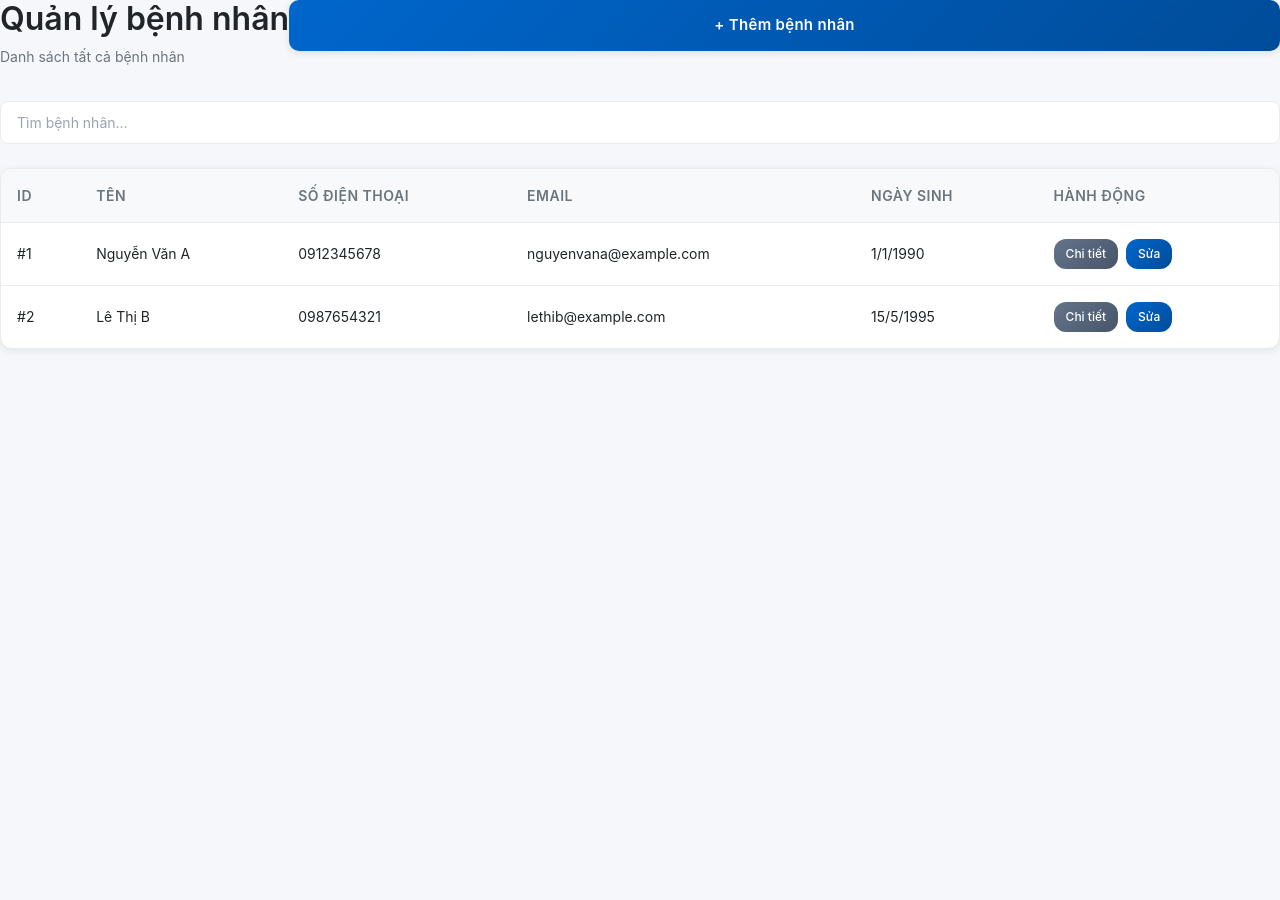
Test: PatientList › opens edit patient form
Click the button "Sửa" in the row of "Nguyễn Văn A" at (1149, 254), box 1126,239 -> 1172,269
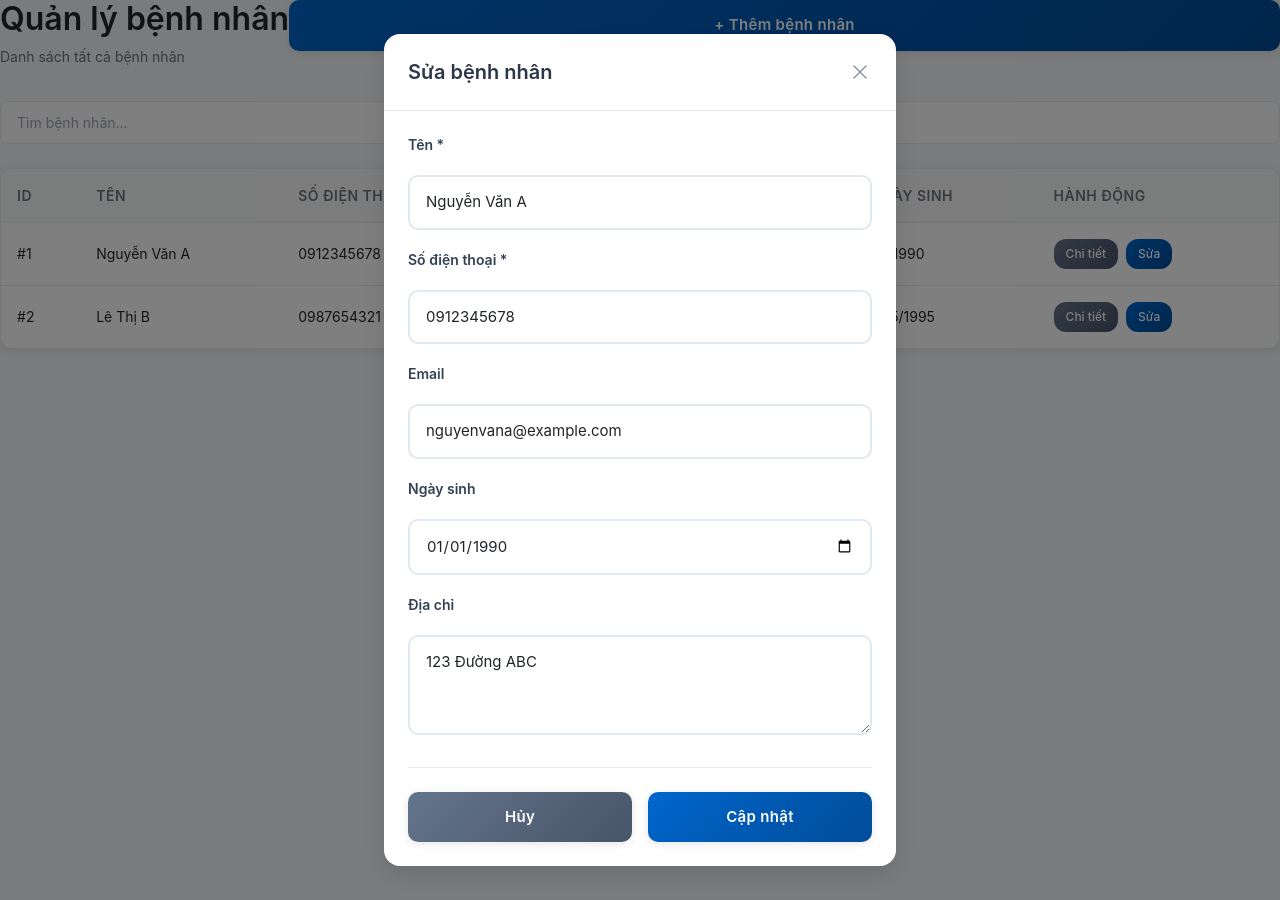
Expected: the heading "Sửa bệnh nhân" is shown, 408,58 -> 552,86
